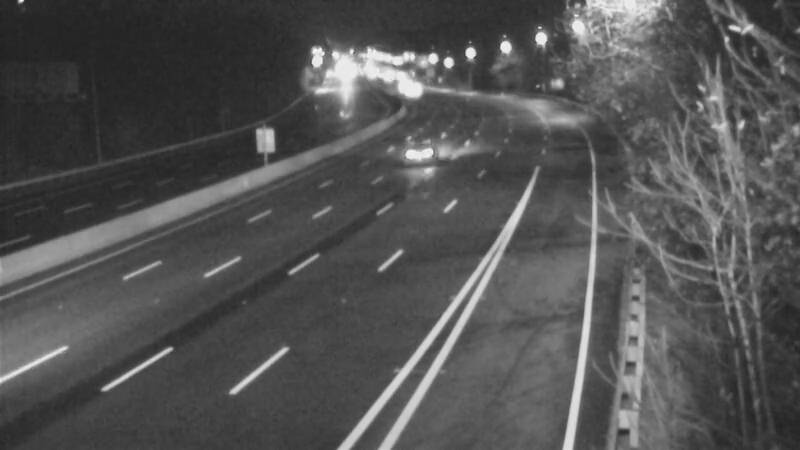vehicle: (389, 112, 469, 192), (381, 64, 431, 114)
